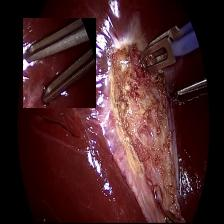Bipolar: (138, 20, 202, 74)
Grasper: (23, 18, 96, 108)
